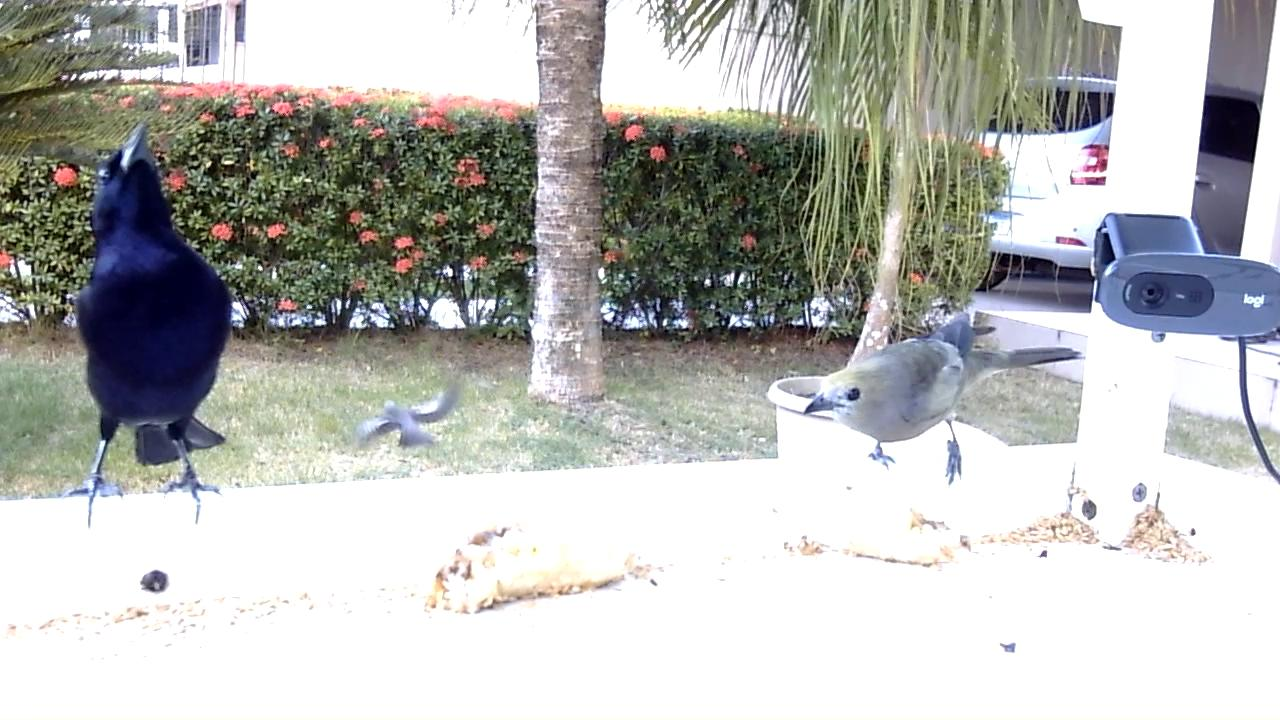chupim: (63, 118, 240, 536)
sanhaco_do_coqueiro: (797, 307, 1090, 492)
